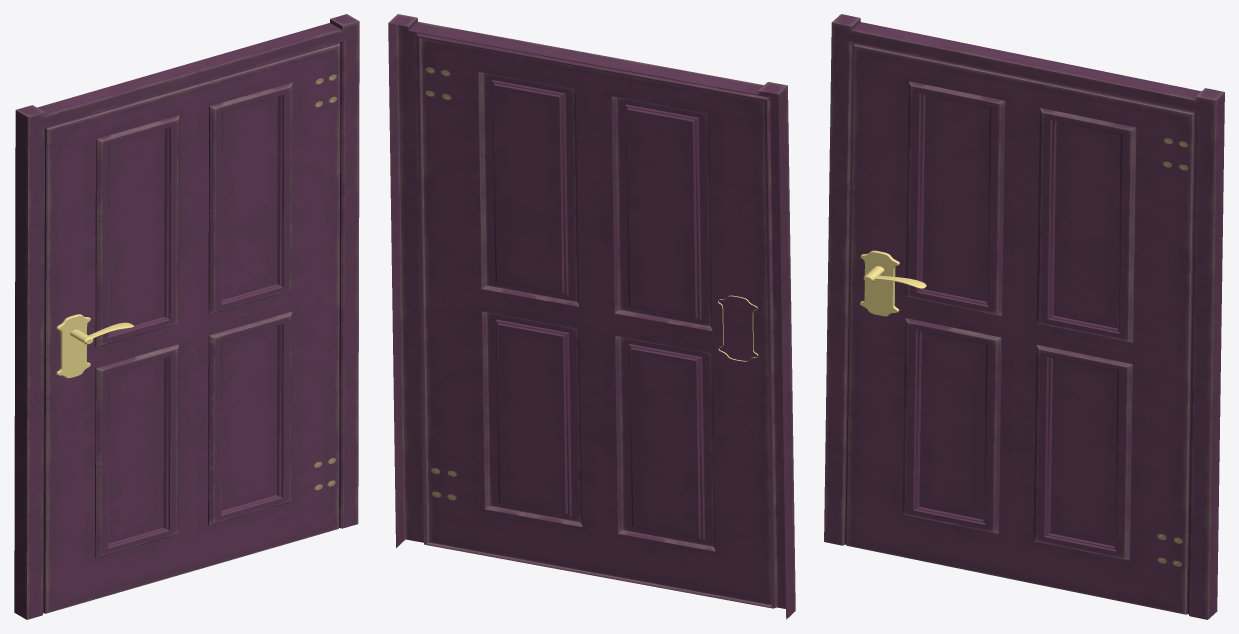
File: coraline-copia.gltf
The picture shows the model from 3 angles, left to right: view 1: azimuth 30°, elevation 25°; view 2: azimuth 150°, elevation 25°; view 3: azimuth 330°, elevation 25°; orthographic projection. The views are drawn at different scales.
Visible parts, largest first — view 1: Door; view 2: Door; view 3: Door.
Part boxes in pixels (x1=…): Door: x1=14, y1=14, x2=359, y2=619; Door: x1=388, y1=14, x2=795, y2=619; Door: x1=824, y1=14, x2=1224, y2=619.
Bounding box in the file's own units: 15.63 × 21.08 × 3.31.
1 material, 1 textured.
